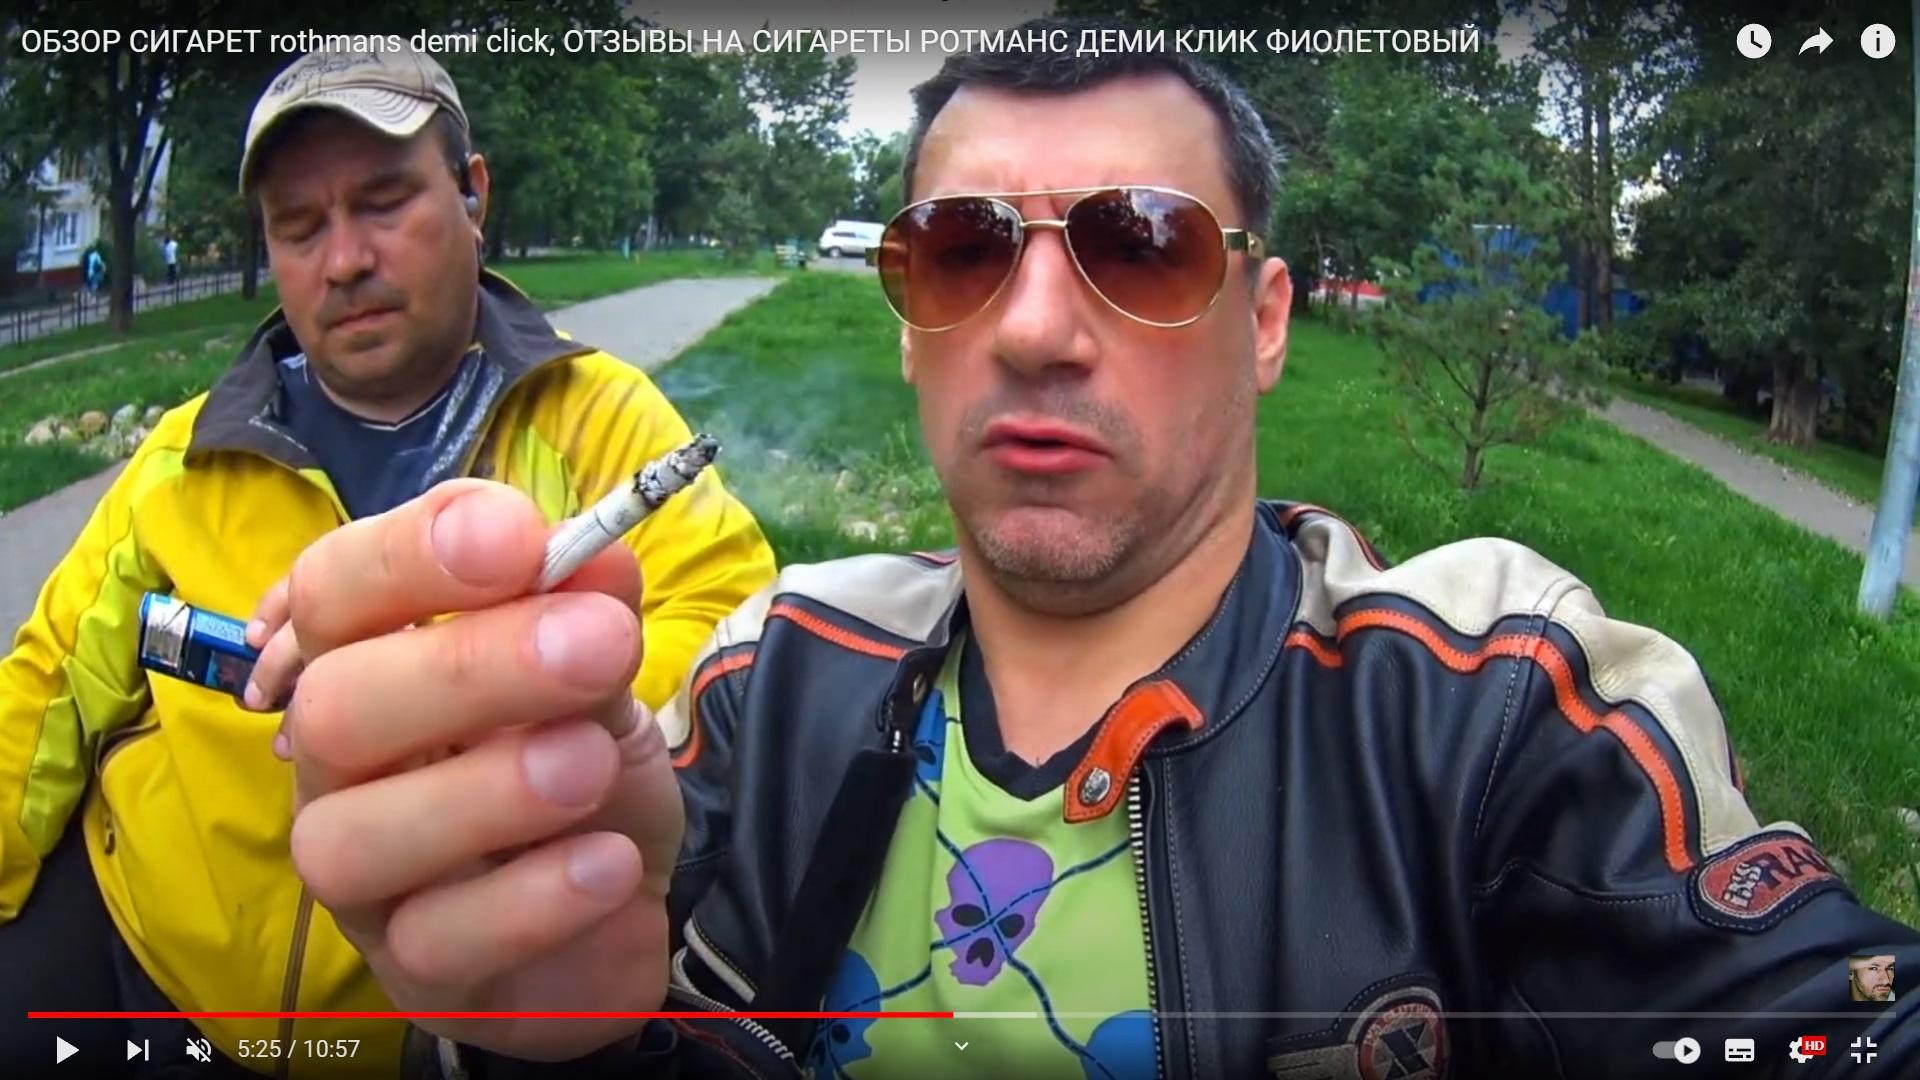cigarette: (526, 433, 723, 595)
